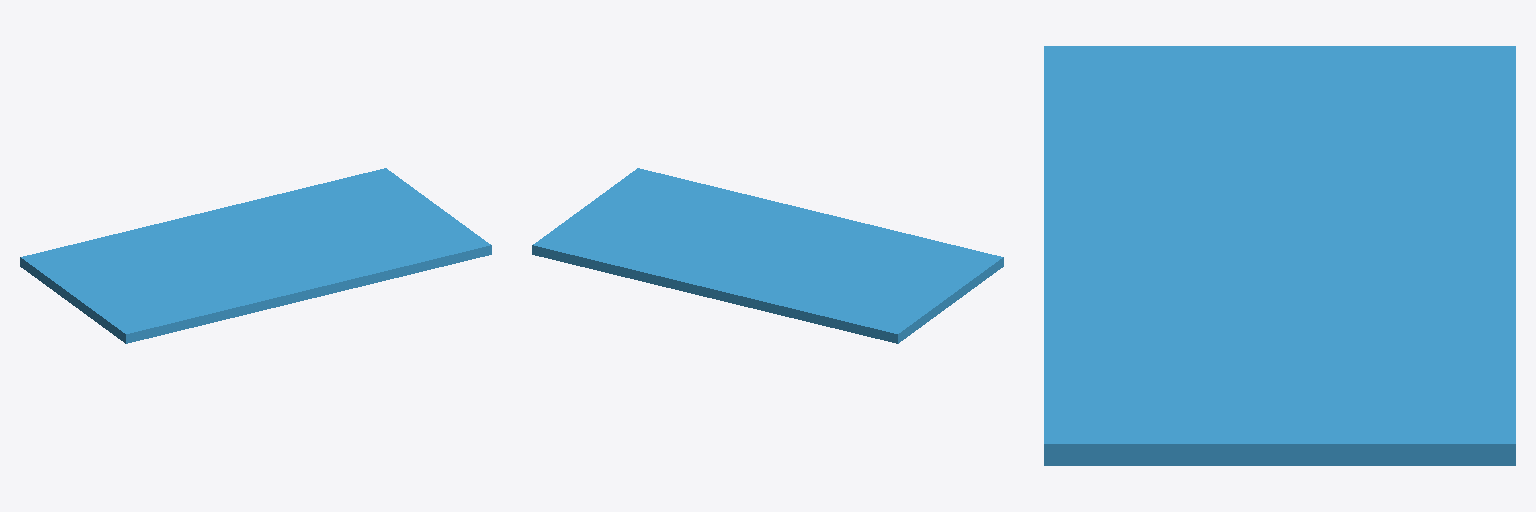
robot.urdf — floor_table:
<?xml version="1.0"?>
<robot name="floor_table">
  <link name="world" />

  <gazebo reference="table">
    <mu1>0.1</mu1>
    <mu2>0.1</mu2>
    <kp>10000000</kp>
    <kd>1</kd>
    <minDepth>0.001</minDepth>
  </gazebo>

  <link name="table">
    <visual>
      <geometry>
	<box size="2 1 0.05" />
      </geometry>
    </visual>
    <collision>
      <geometry>
	<box size="2 1 0.05" />
      </geometry>
    </collision>
    <inertial>
      <mass value="100" />
      <inertia ixx="100" ixy="0" ixz="0" iyy="100" iyz="0" izz="100" />
    </inertial>
  </link>

  <joint name="fixed" type="fixed">
    <origin rpy="0 0 0" xyz="0 0 0" />
    <parent link="world" />
    <child link="table" />
  </joint>


  <gazebo reference="table">
  <material>Gazebo/Wood</material>
  </gazebo>

</robot>

--- Render facts (derived) ---
Views: 3 orthographic renders of the robot side by side, from view 1: azimuth 30°, elevation 25°; view 2: azimuth 150°, elevation 25°; view 3: azimuth 270°, elevation 25°.
Robot: floor_table — 2 links, 1 joints (1 fixed); root link world; default pose: every joint at zero.
Links seen in each view (by area): view 1: table; view 2: table; view 3: table.
Link boxes in pixels (left/top/right/bottom): table: left=20, top=168, right=491, bottom=343; table: left=532, top=168, right=1003, bottom=343; table: left=1044, top=46, right=1515, bottom=465.
Bounding box of the posed robot: 2 × 1 × 0.05 m (x, y, z).
Geometry: primitives only (box / cylinder / sphere), no mesh files.